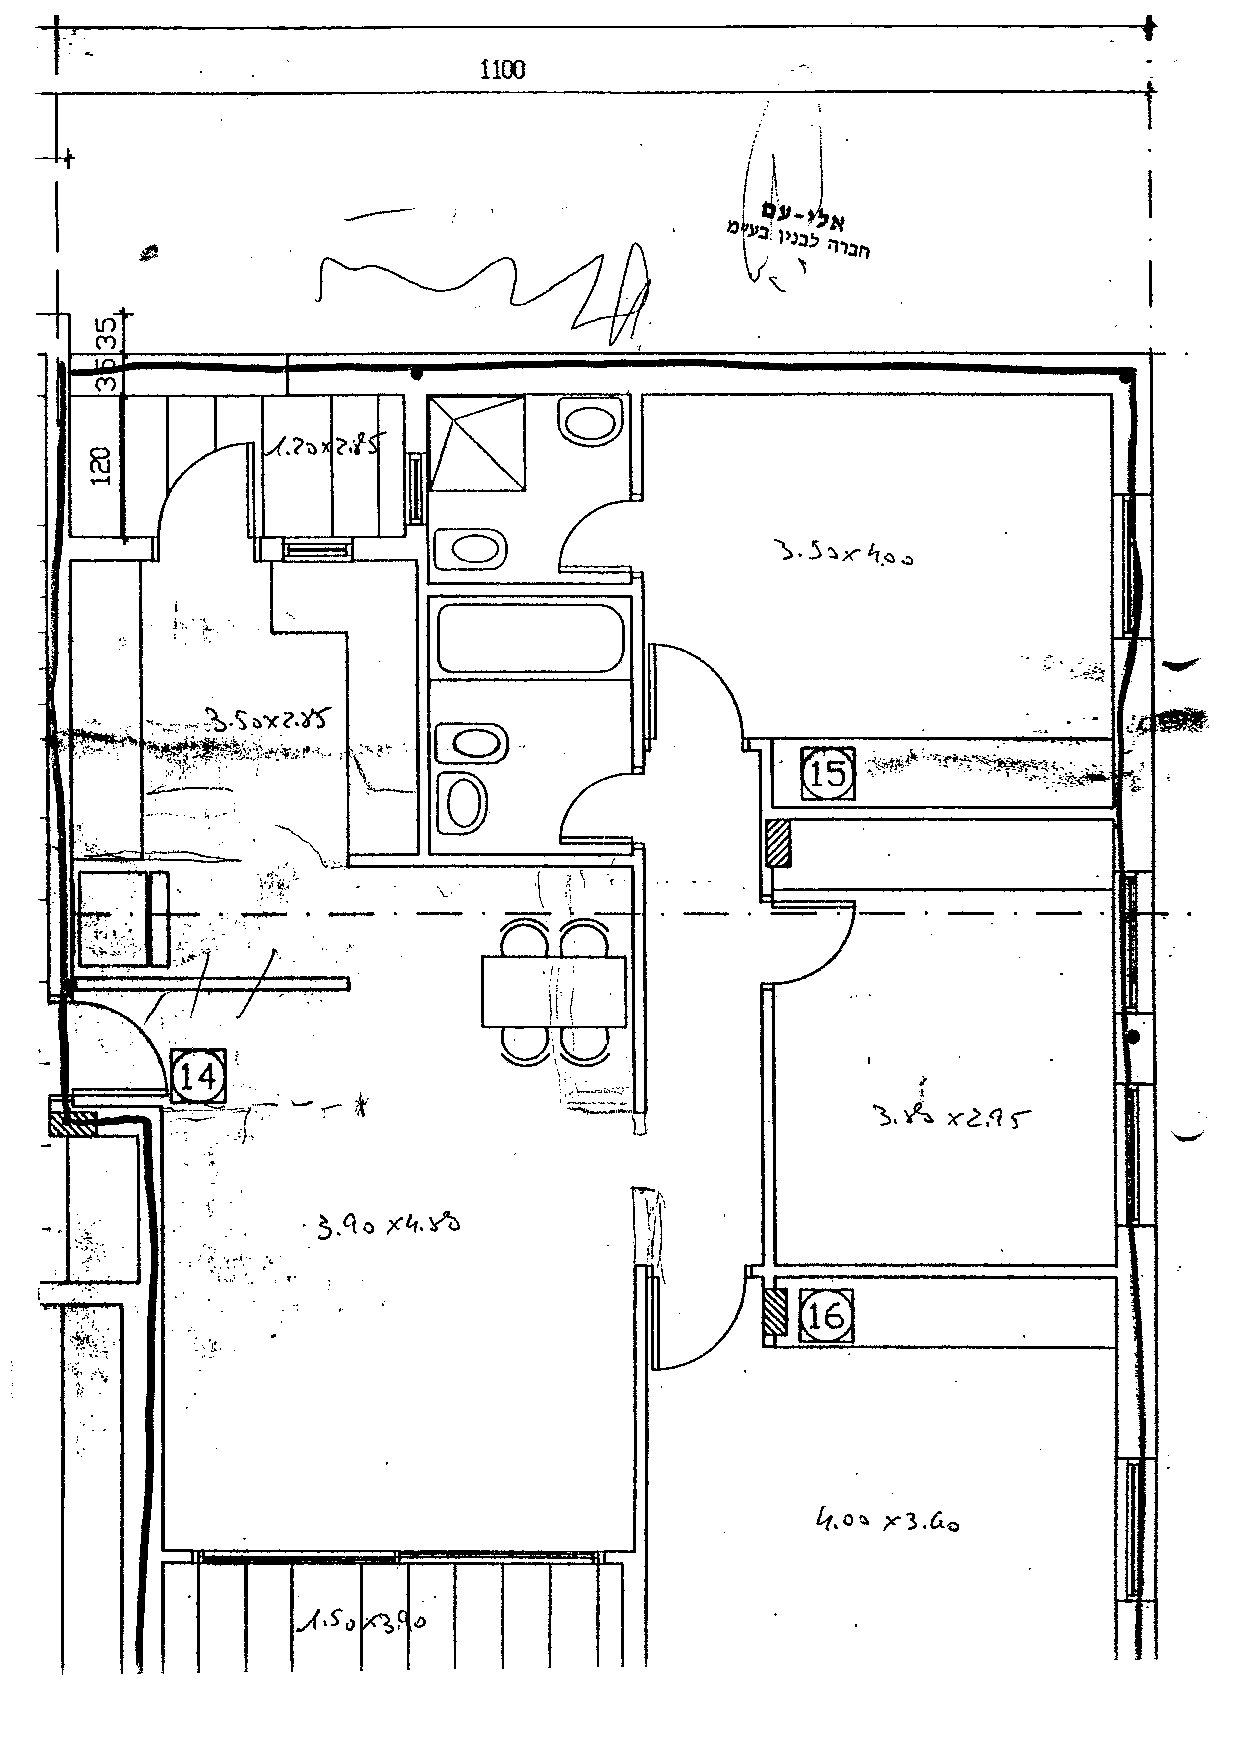door: (641, 620, 761, 725), (777, 896, 896, 1001), (509, 750, 628, 855), (158, 437, 258, 542), (654, 1279, 752, 1384), (542, 478, 625, 576)
